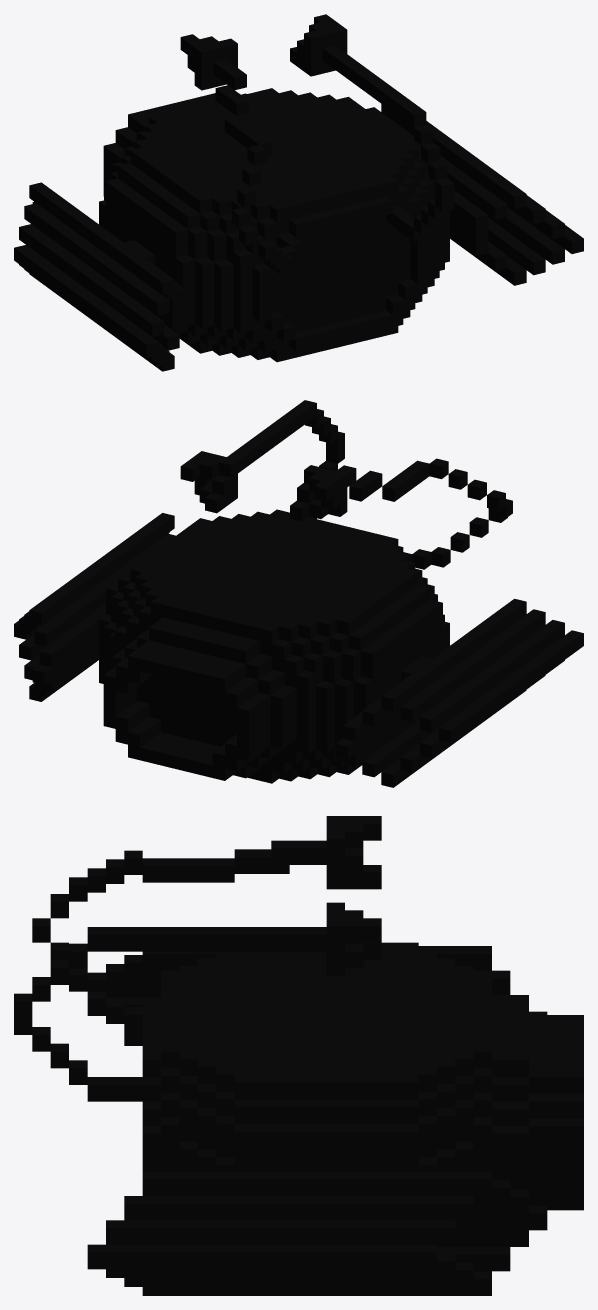
The model's file is PoisonWeapon.obj.
3 views of the same model, one above another, from view 1: azimuth 30°, elevation 25°; view 2: azimuth 150°, elevation 25°; view 3: azimuth 270°, elevation 25° (orthographic). The views are drawn at different scales.
Size of the model in its own units: 36 by 21 by 31.
